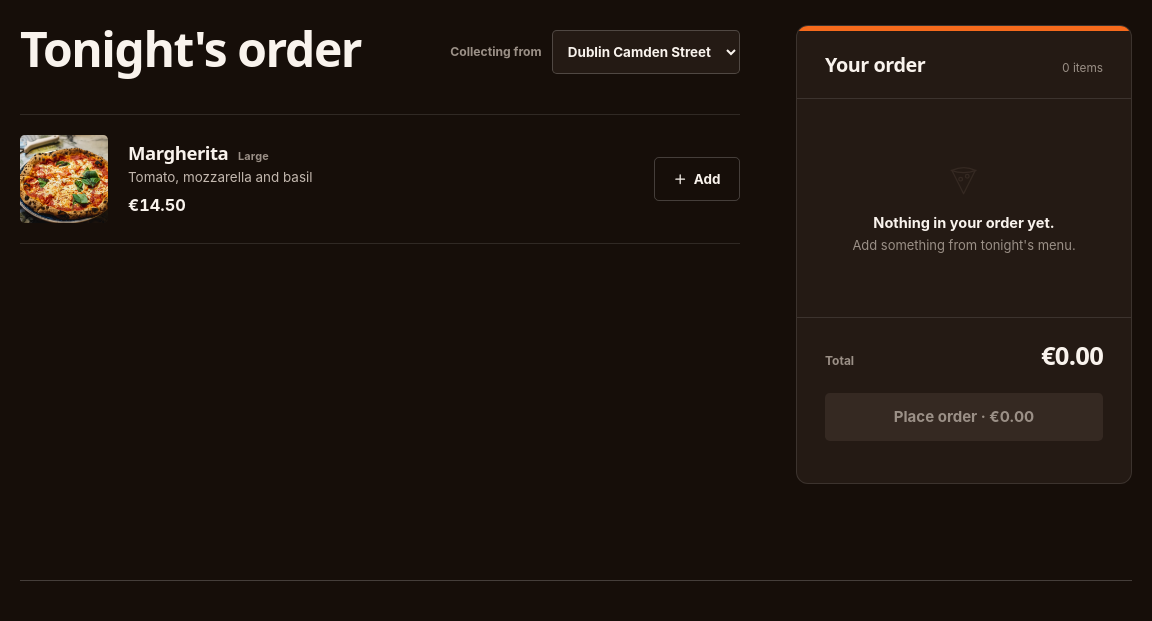
Scenario: Pizza 42 ordering experience › shows a newly placed order in history without a new sign-in
The image size is (1152, 621).
Step 1. Click the button with aria-label "Add Margherita" → [697, 179], box left=654, top=157, right=740, bottom=201
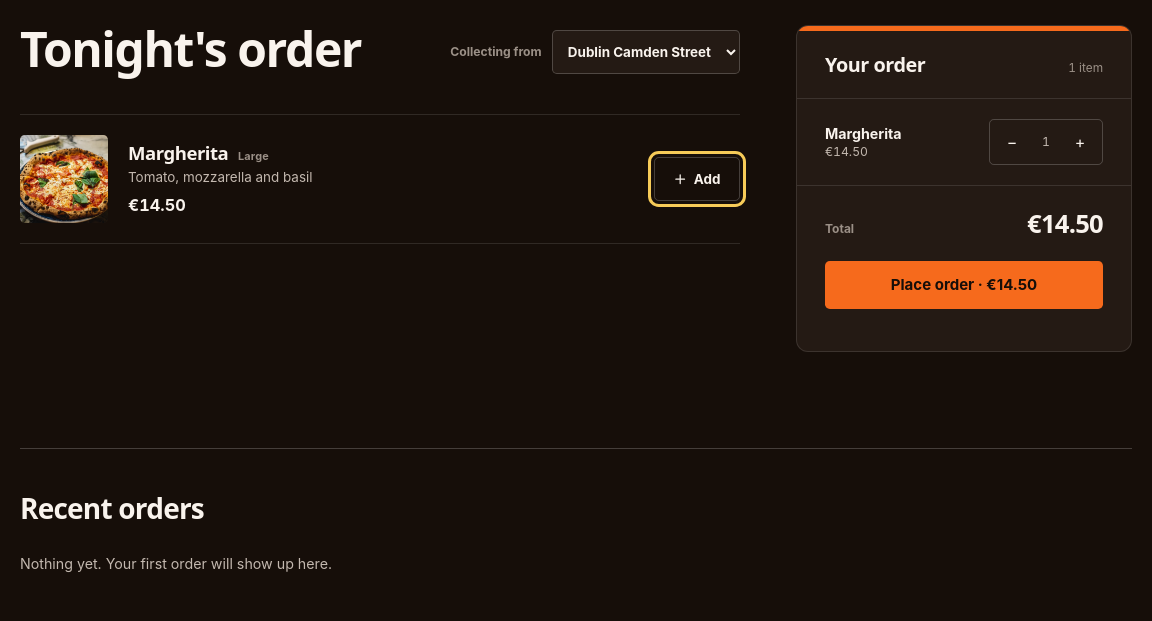
Step 2. Click the button "Place order · €14.50" → [964, 285], box left=825, top=261, right=1103, bottom=309
(page scrolled)
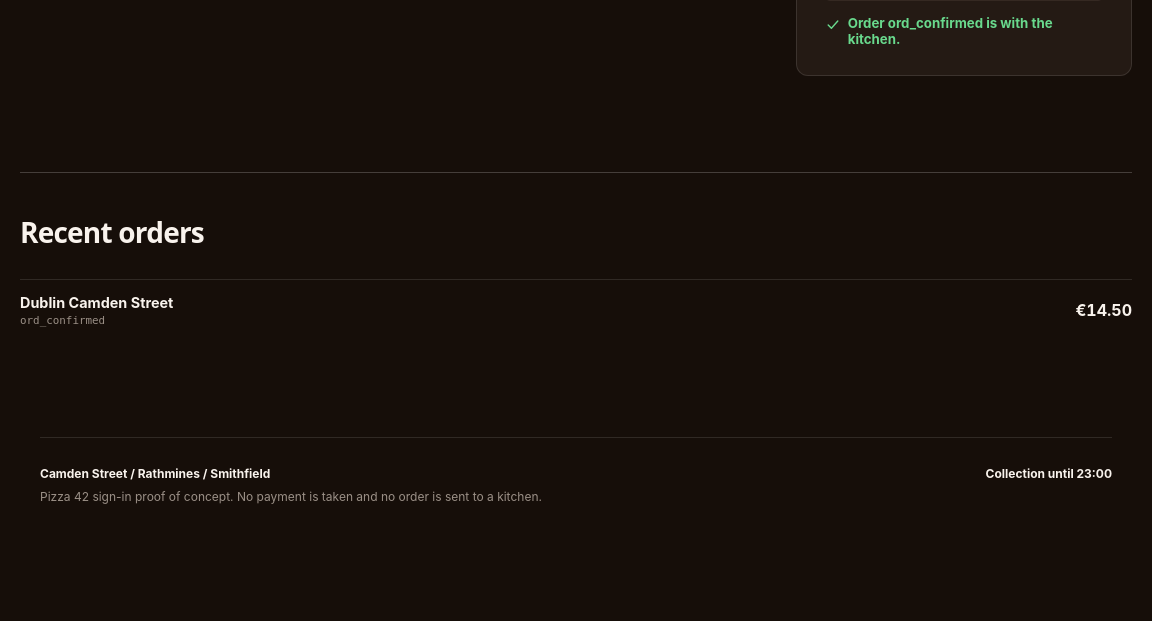
Now the text "ord_confirmed" is shown, box left=20, top=314, right=105, bottom=327
Now the text "Nothing yet" is gone
